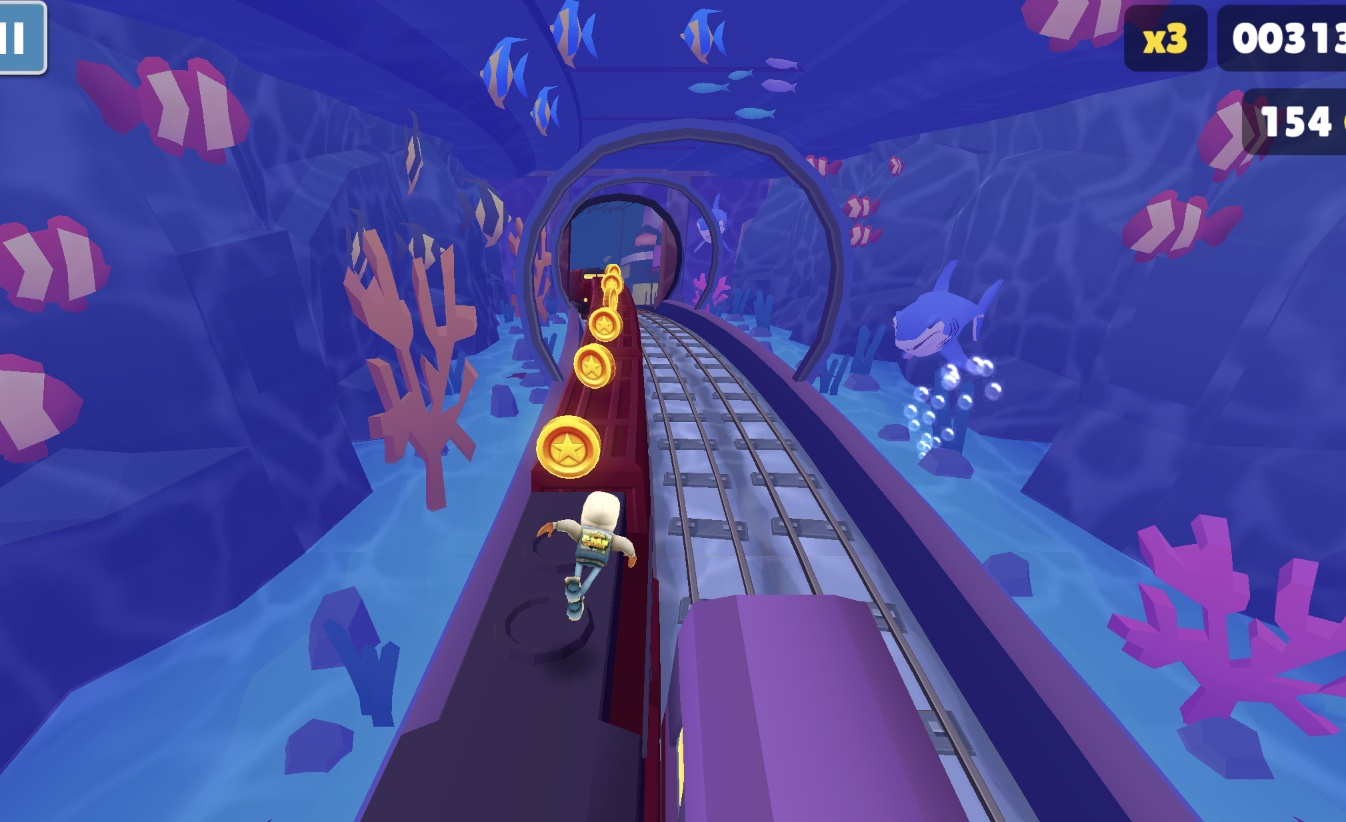train: (357, 491, 659, 822), (663, 595, 968, 822), (531, 284, 660, 738), (570, 270, 603, 318)
